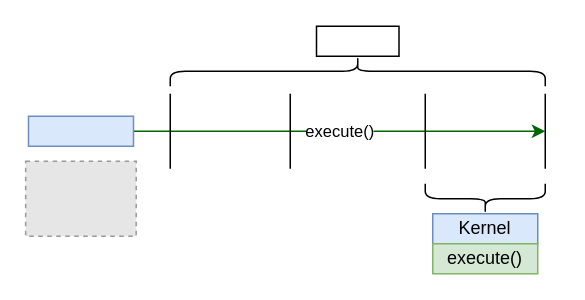
Some shapes in this 585 by 300 pixel diagram are drawn without their labels. Grey dashed boxes stand in for pictures. The shapes that lost their labels are listed below. From the top down, each one's centre as x and y in pixels, then its label:
At [357,40]: "runtime".
At [80,130]: "ParticleSet".
